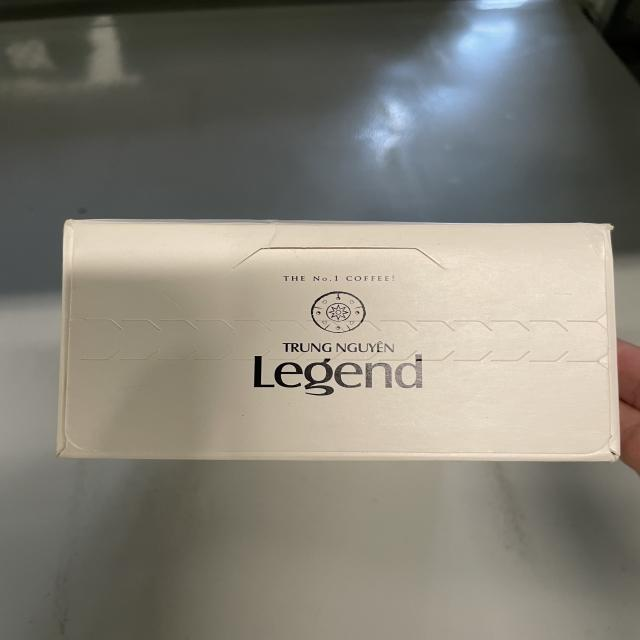object_name: (60, 220, 617, 461)
